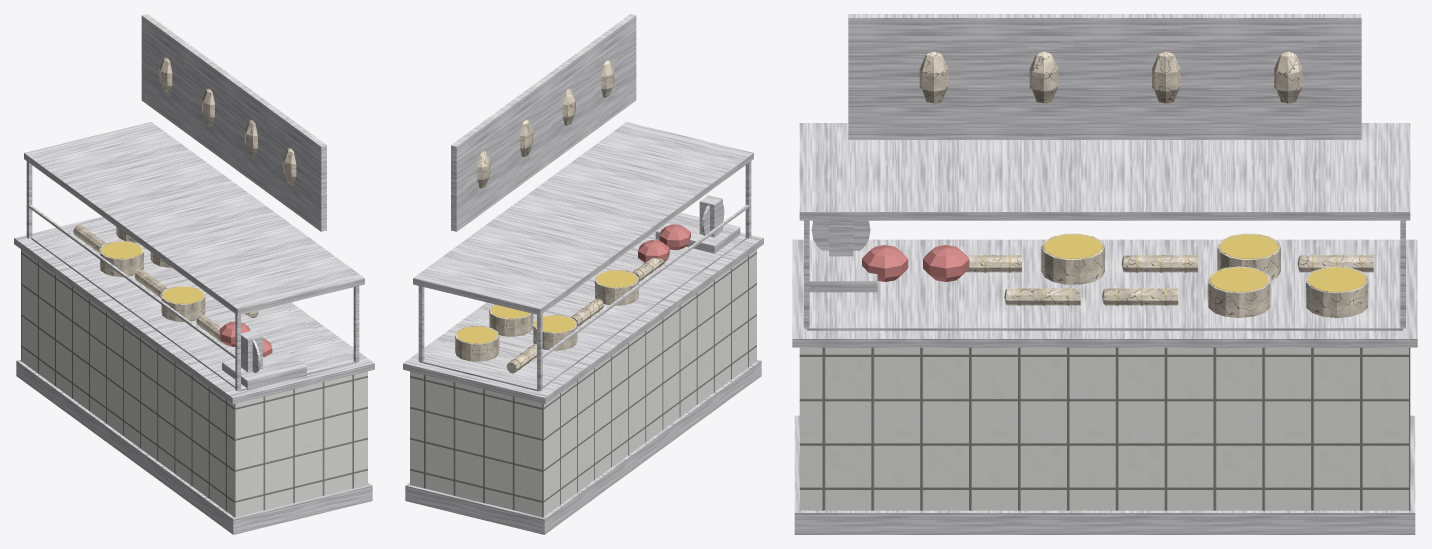
Rendered from banco_affettati.obj.
3 renders of one model, left to right at view 1: azimuth 30°, elevation 25°; view 2: azimuth 150°, elevation 25°; view 3: azimuth 270°, elevation 25°, orthographic. The views are drawn at different scales.
Parts seen in each view (by area): view 1: piastrelle_muro_000, metallo_004, metallo_007, metallo_003, metallo_002, metallo_001, metallo_009, crosta_008, liscio_020, liscio_006, liscio_015, crosta_018 (+1 smaller); view 2: piastrelle_muro_000, metallo_004, metallo_007, metallo_003, metallo_001, metallo_002, metallo_009, crosta_008, liscio_006, crosta_023, crosta_026, liscio_025 (+4 smaller); view 3: piastrelle_muro_000, metallo_007, metallo_004, metallo_003, metallo_001, metallo_002, crosta_008, metallo_009, liscio_006, crosta_018, crosta_016, crosta_029 (+10 smaller).
Boxes of the visible parts, bbox=[...] form: piastrelle_muro_000: bbox=[21, 249, 367, 517]; metallo_004: bbox=[24, 122, 364, 391]; metallo_007: bbox=[141, 14, 326, 231]; metallo_003: bbox=[31, 219, 357, 391]; metallo_002: bbox=[14, 216, 374, 404]; metallo_001: bbox=[16, 359, 372, 534]; metallo_009: bbox=[222, 330, 306, 389]; crosta_008: bbox=[159, 57, 296, 185]; liscio_020: bbox=[163, 286, 203, 303]; liscio_006: bbox=[219, 321, 272, 357]; liscio_015: bbox=[101, 241, 141, 258]; crosta_018: bbox=[161, 298, 205, 321]; piastrelle_muro_000: bbox=[410, 249, 756, 517]; metallo_004: bbox=[413, 122, 753, 391]; metallo_007: bbox=[451, 14, 636, 231]; metallo_003: bbox=[420, 219, 746, 391]; metallo_001: bbox=[405, 359, 761, 534]; metallo_002: bbox=[403, 216, 763, 404]; metallo_009: bbox=[655, 195, 740, 253]; crosta_008: bbox=[477, 60, 614, 188]; liscio_006: bbox=[638, 224, 690, 262]; crosta_023: bbox=[455, 338, 499, 361]; crosta_026: bbox=[489, 314, 533, 336]; liscio_025: bbox=[457, 326, 497, 343]; piastrelle_muro_000: bbox=[799, 347, 1410, 510]; metallo_007: bbox=[848, 14, 1361, 139]; metallo_004: bbox=[799, 123, 1410, 328]; metallo_003: bbox=[807, 246, 1402, 330]; metallo_001: bbox=[794, 415, 1415, 534]; metallo_002: bbox=[792, 239, 1417, 347]; crosta_008: bbox=[919, 52, 1302, 103]; metallo_009: bbox=[809, 220, 877, 292]; liscio_006: bbox=[862, 245, 969, 281]; crosta_018: bbox=[1041, 252, 1104, 284]; crosta_016: bbox=[1121, 255, 1197, 272]; crosta_029: bbox=[1102, 288, 1178, 305].
Size of the model in its own units: 0.96 by 2.25 by 2.56.
16 materials, 12 textured.
